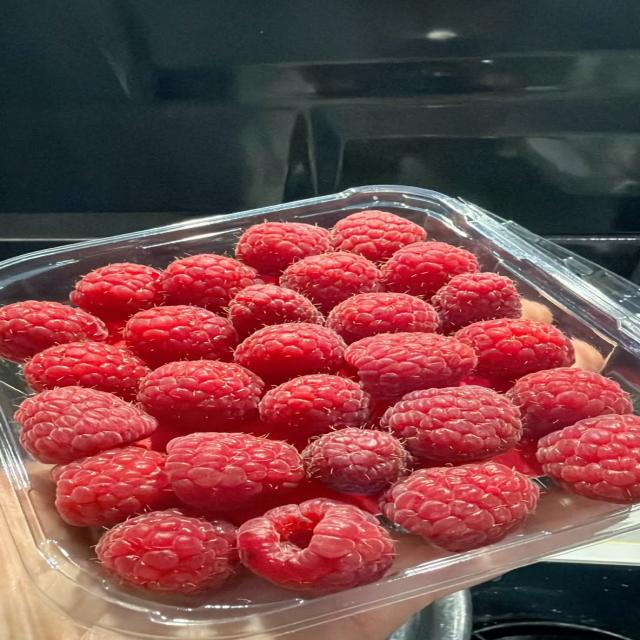raspberry: (239, 499, 393, 591), (381, 462, 539, 551), (96, 510, 237, 593), (381, 386, 521, 465), (15, 387, 157, 463), (167, 433, 305, 510), (56, 447, 173, 525), (537, 415, 639, 503), (345, 333, 476, 401), (138, 361, 263, 432), (508, 368, 633, 439), (212, 478, 379, 525), (259, 374, 370, 438), (25, 343, 148, 400), (302, 428, 406, 495), (455, 319, 573, 378), (124, 306, 238, 367), (235, 323, 346, 383), (0, 301, 107, 362), (280, 252, 383, 312), (161, 254, 256, 312), (327, 293, 439, 342), (383, 242, 479, 298), (432, 273, 521, 332), (70, 263, 162, 319), (228, 285, 323, 337), (236, 222, 331, 274), (332, 210, 426, 261), (460, 373, 513, 393), (104, 320, 126, 345), (256, 274, 279, 285)
